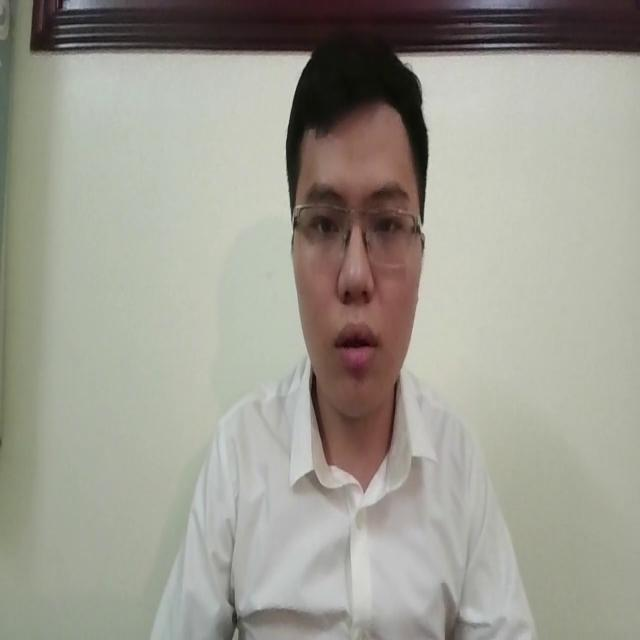student: (145, 31, 532, 640)
